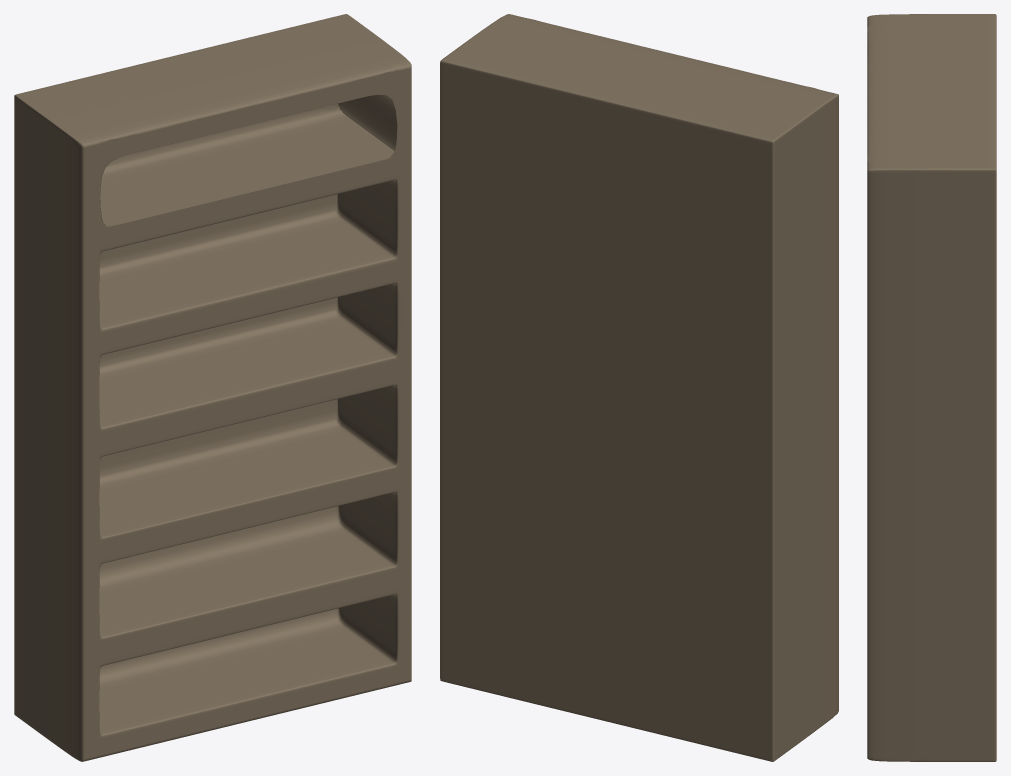
File: BookShelf.fbx
3 views of the same model, side by side, from view 1: azimuth 30°, elevation 25°; view 2: azimuth 150°, elevation 25°; view 3: azimuth 270°, elevation 25° (orthographic). The views are drawn at different scales.
Visible parts, largest first — view 1: shelf:pCube1; view 2: shelf:pCube1; view 3: shelf:pCube1.
Boxes of the visible parts, x1=… form: shelf:pCube1: x1=14, y1=14, x2=411, y2=761; shelf:pCube1: x1=440, y1=14, x2=838, y2=761; shelf:pCube1: x1=867, y1=14, x2=996, y2=761.
Bounding box in the file's own units: 27.72 × 49.26 × 9.73.
